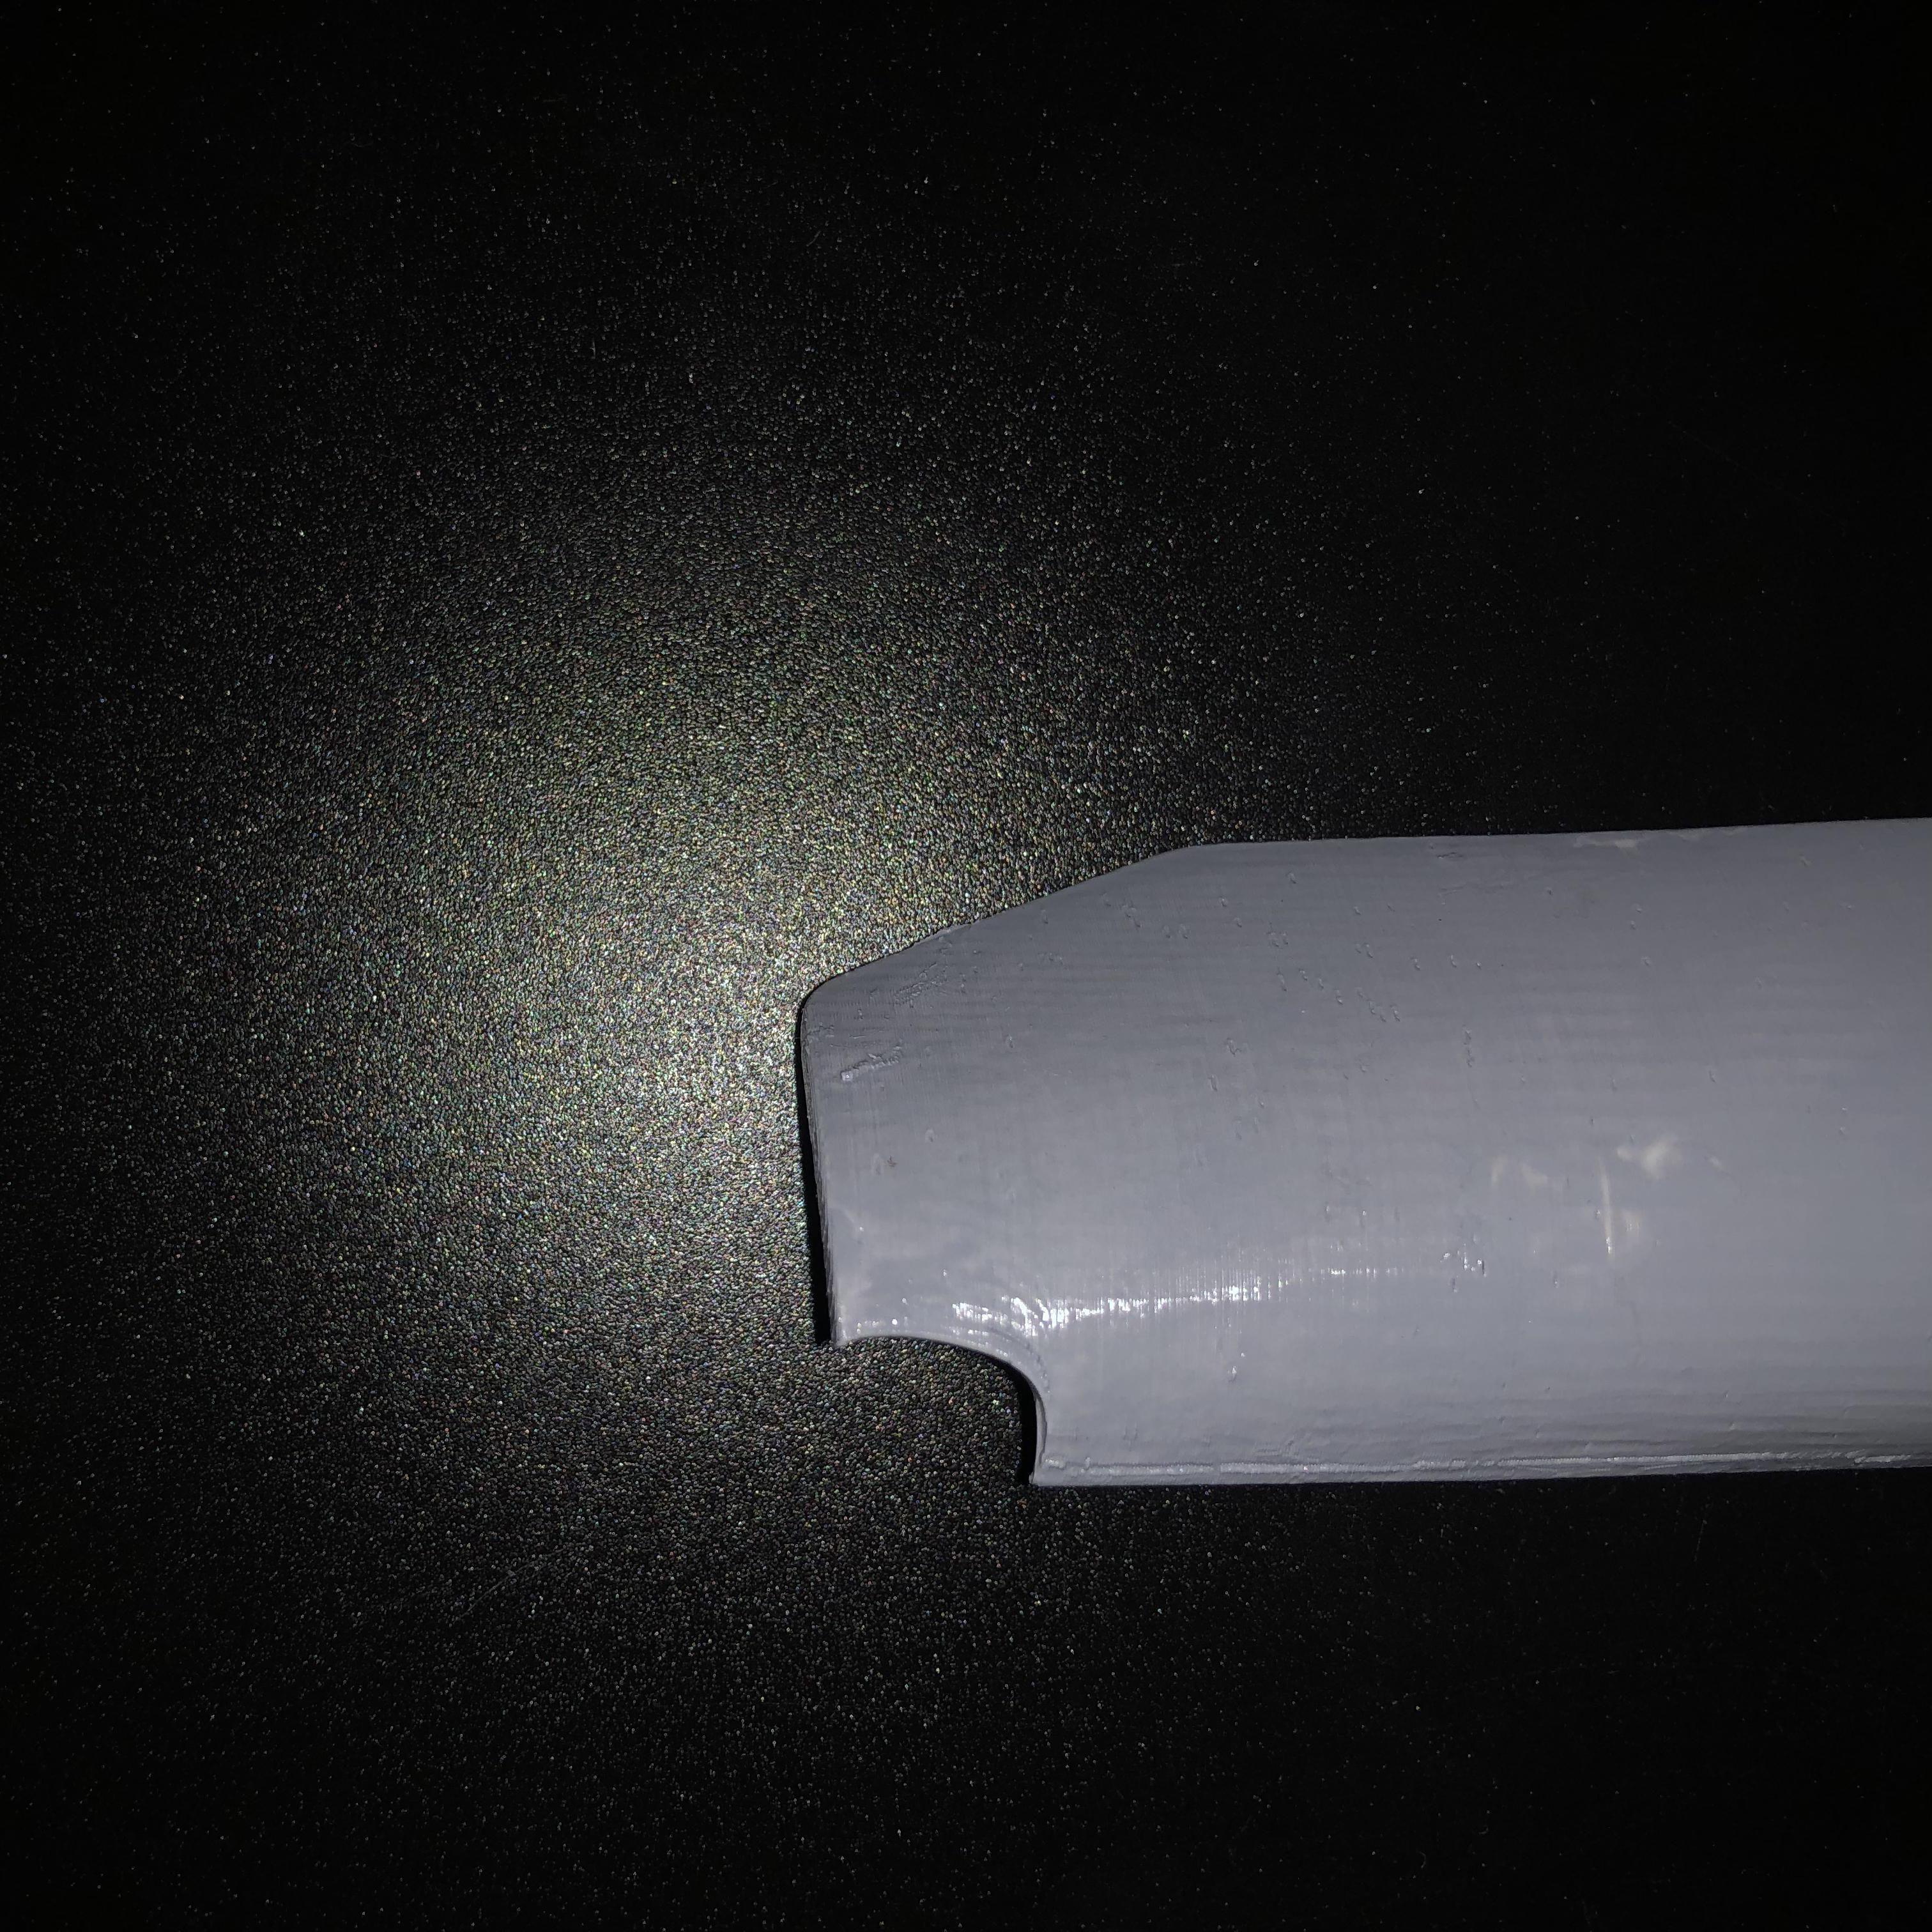fracture: (846, 1313, 1058, 1499)
